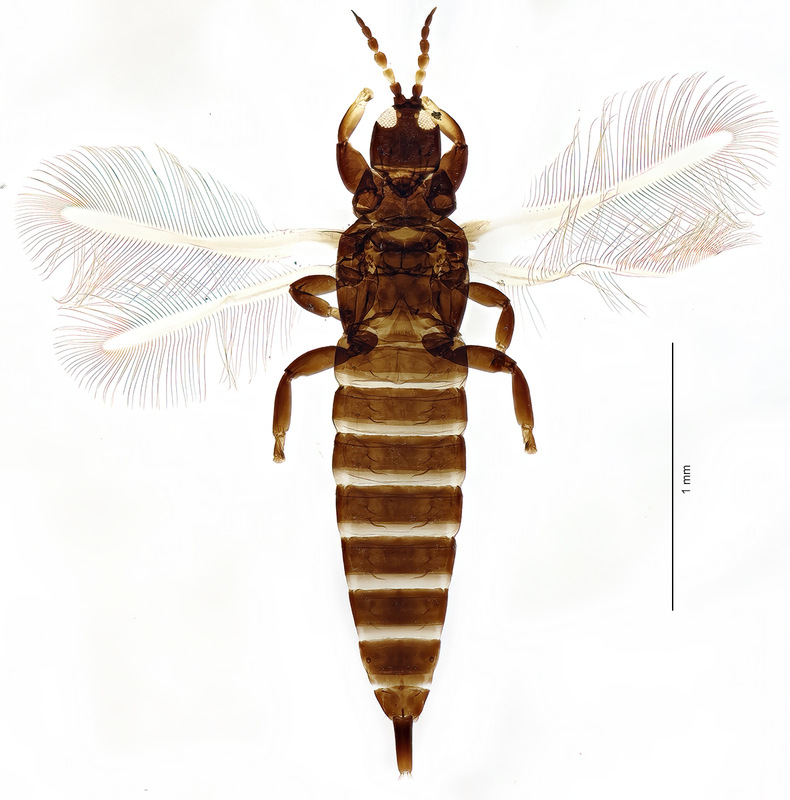Phlaeothripidae: (15, 8, 774, 776)
